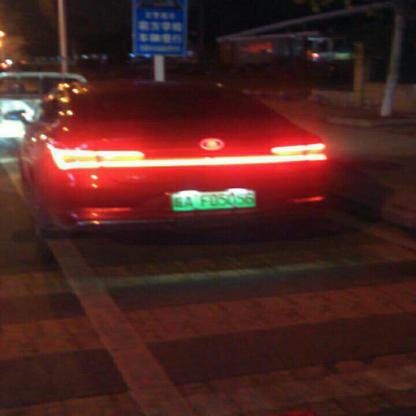lp: (172, 189, 257, 210)
